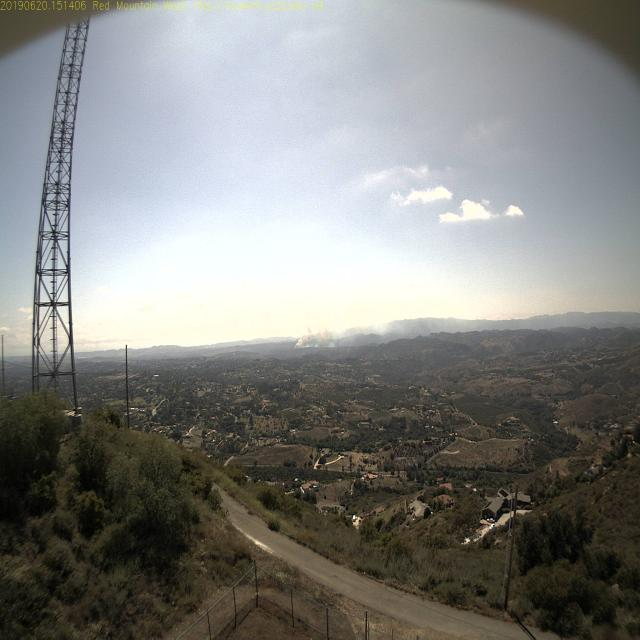smoke: (290, 328, 312, 354)
